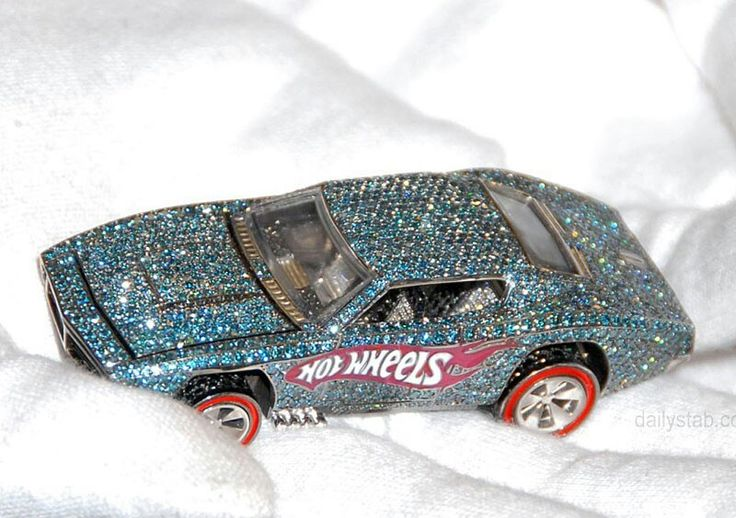Car: (30, 135, 707, 504)
